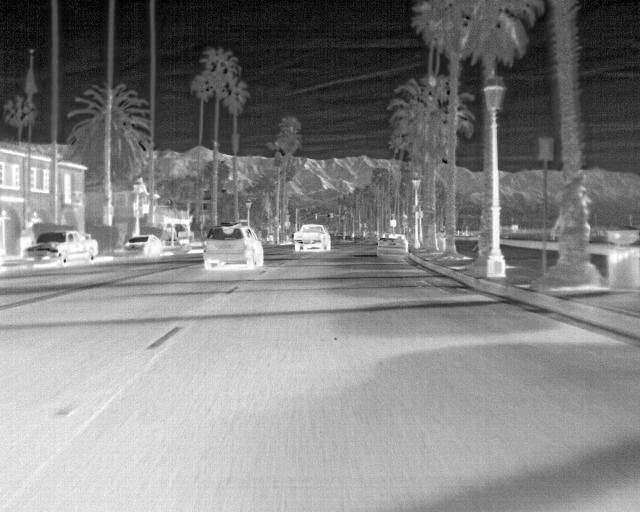car: (203, 220, 264, 270), (25, 230, 98, 264), (291, 222, 331, 252), (377, 233, 409, 261), (124, 233, 160, 257)
